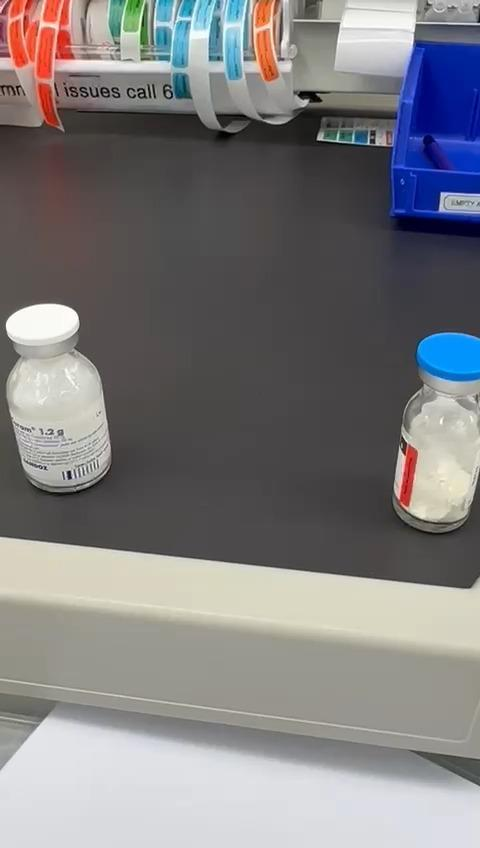augmentin: (7, 303, 111, 493)
cefazolin: (393, 333, 480, 532)
